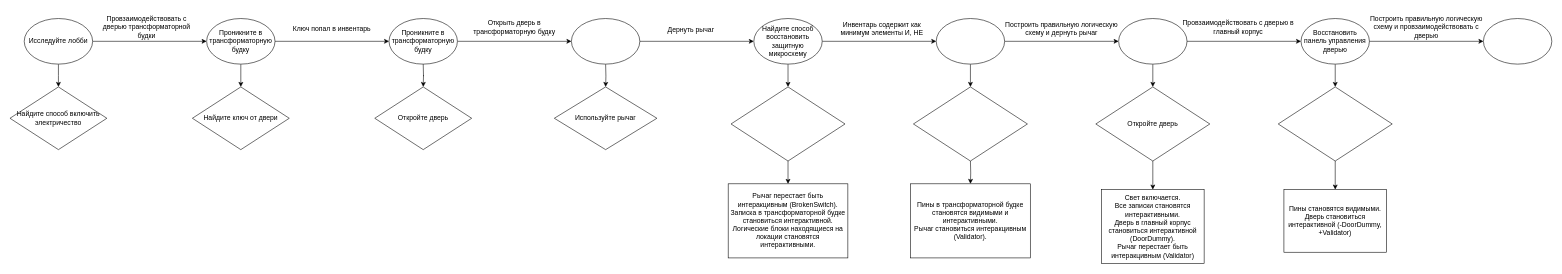
Image size: 1562x274. Some labels were removed from this diagram. The shapes that lost their labels are listed below. From the top down, each one's box as (x1, y1, x2, y2) in pixels, then its label:
(571, 18, 640, 64): Перезагрузите основной источник питания
(936, 18, 1005, 64): Восстановите защитную микросхему
(1118, 18, 1187, 64): Проникнуть в главный корпус
(1483, 18, 1552, 64): Конец
(730, 86, 845, 161): Найдите недостающие элементы
(913, 86, 1027, 161): Восстановите логическую функцию защитной микросхемы
(1278, 86, 1392, 161): Востановите логическую функцию панели управления дверью
